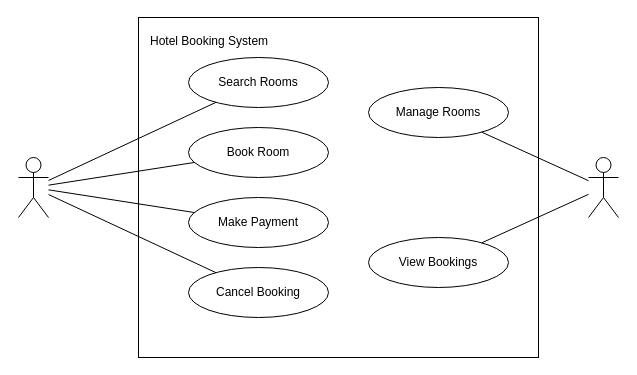
This 637x375 diagram has some shape labels left out. Here are the shapes that lost their labels. From the top down, the box of each, then its label:
(18, 156, 48, 218): Guest
(588, 156, 618, 218): Admin
